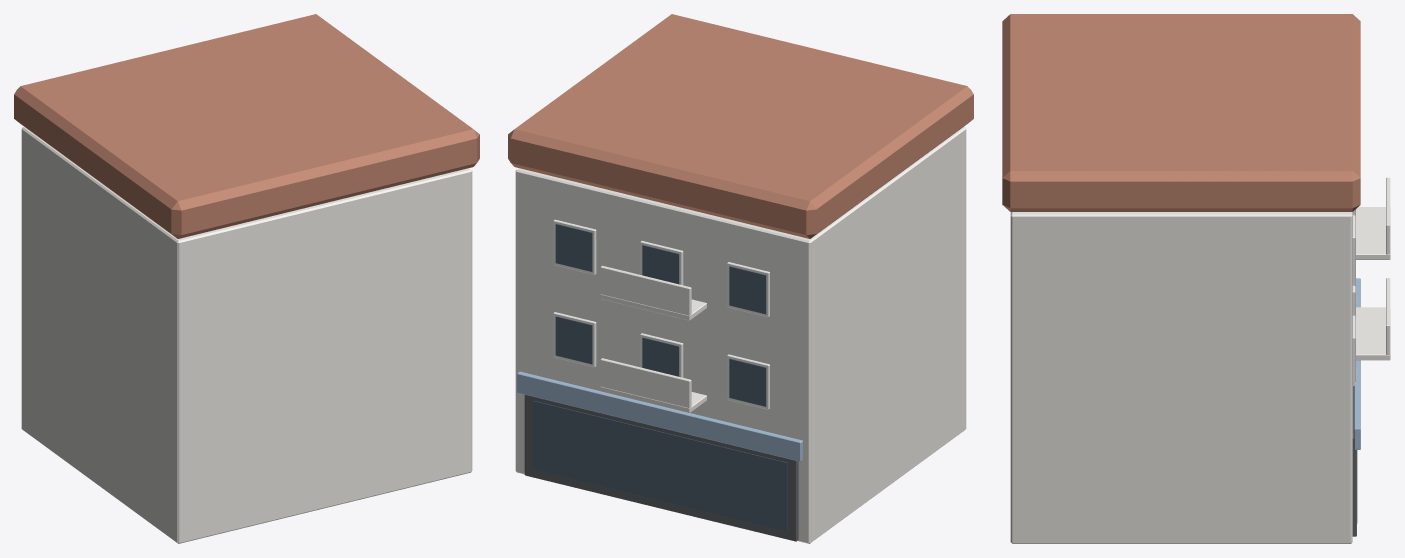
Rendered from Sultanbeyli_MahalleApartman.fbx.
The picture shows the model from 3 angles, left to right: view 1: azimuth 30°, elevation 25°; view 2: azimuth 150°, elevation 25°; view 3: azimuth 270°, elevation 25°; orthographic projection. The views are drawn at different scales.
Parts seen in each view (by area): view 1: Sultanbeyli_MahalleApartman; view 2: Sultanbeyli_MahalleApartman; view 3: Sultanbeyli_MahalleApartman.
Boxes of the visible parts, left/top/right/bottom form: Sultanbeyli_MahalleApartman: left=14, top=14, right=479, bottom=543; Sultanbeyli_MahalleApartman: left=508, top=14, right=973, bottom=543; Sultanbeyli_MahalleApartman: left=1002, top=14, right=1390, bottom=543.
Bounding box in the file's own units: 10.65 × 11.35 × 10.67.
